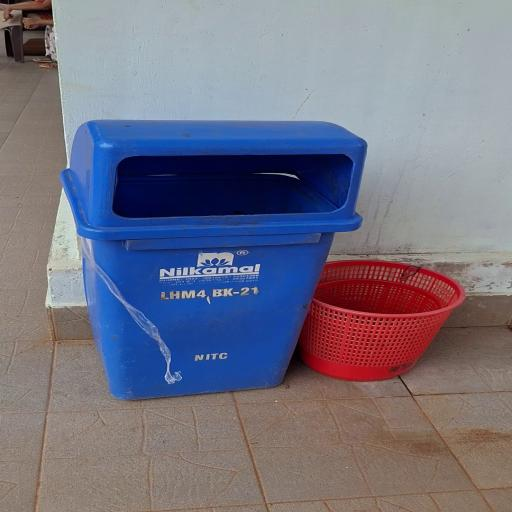Nilkamal-dustbin-detection: (62, 121, 365, 399)
